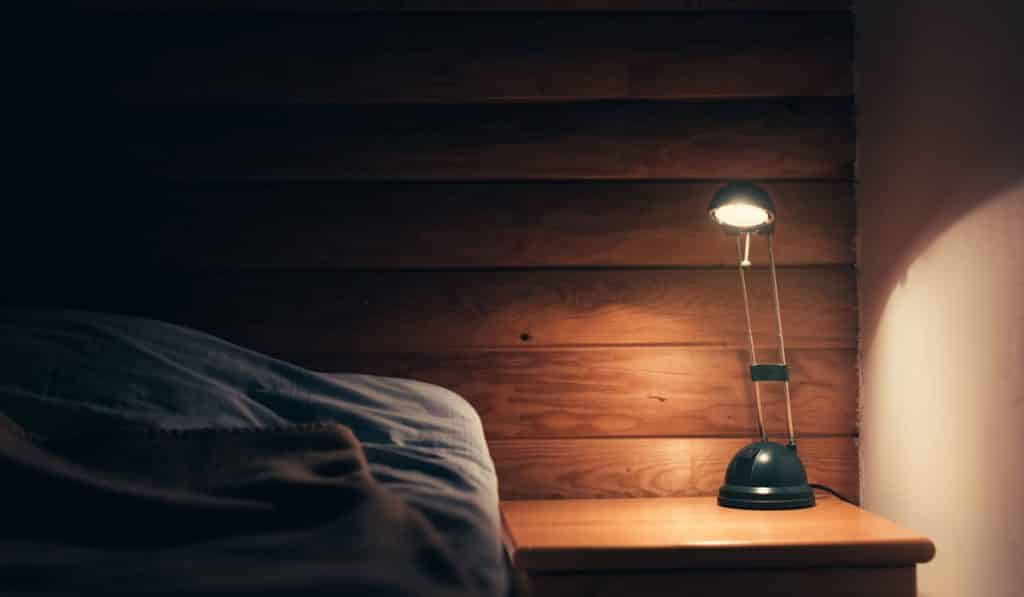bulb: (716, 193, 766, 241)
